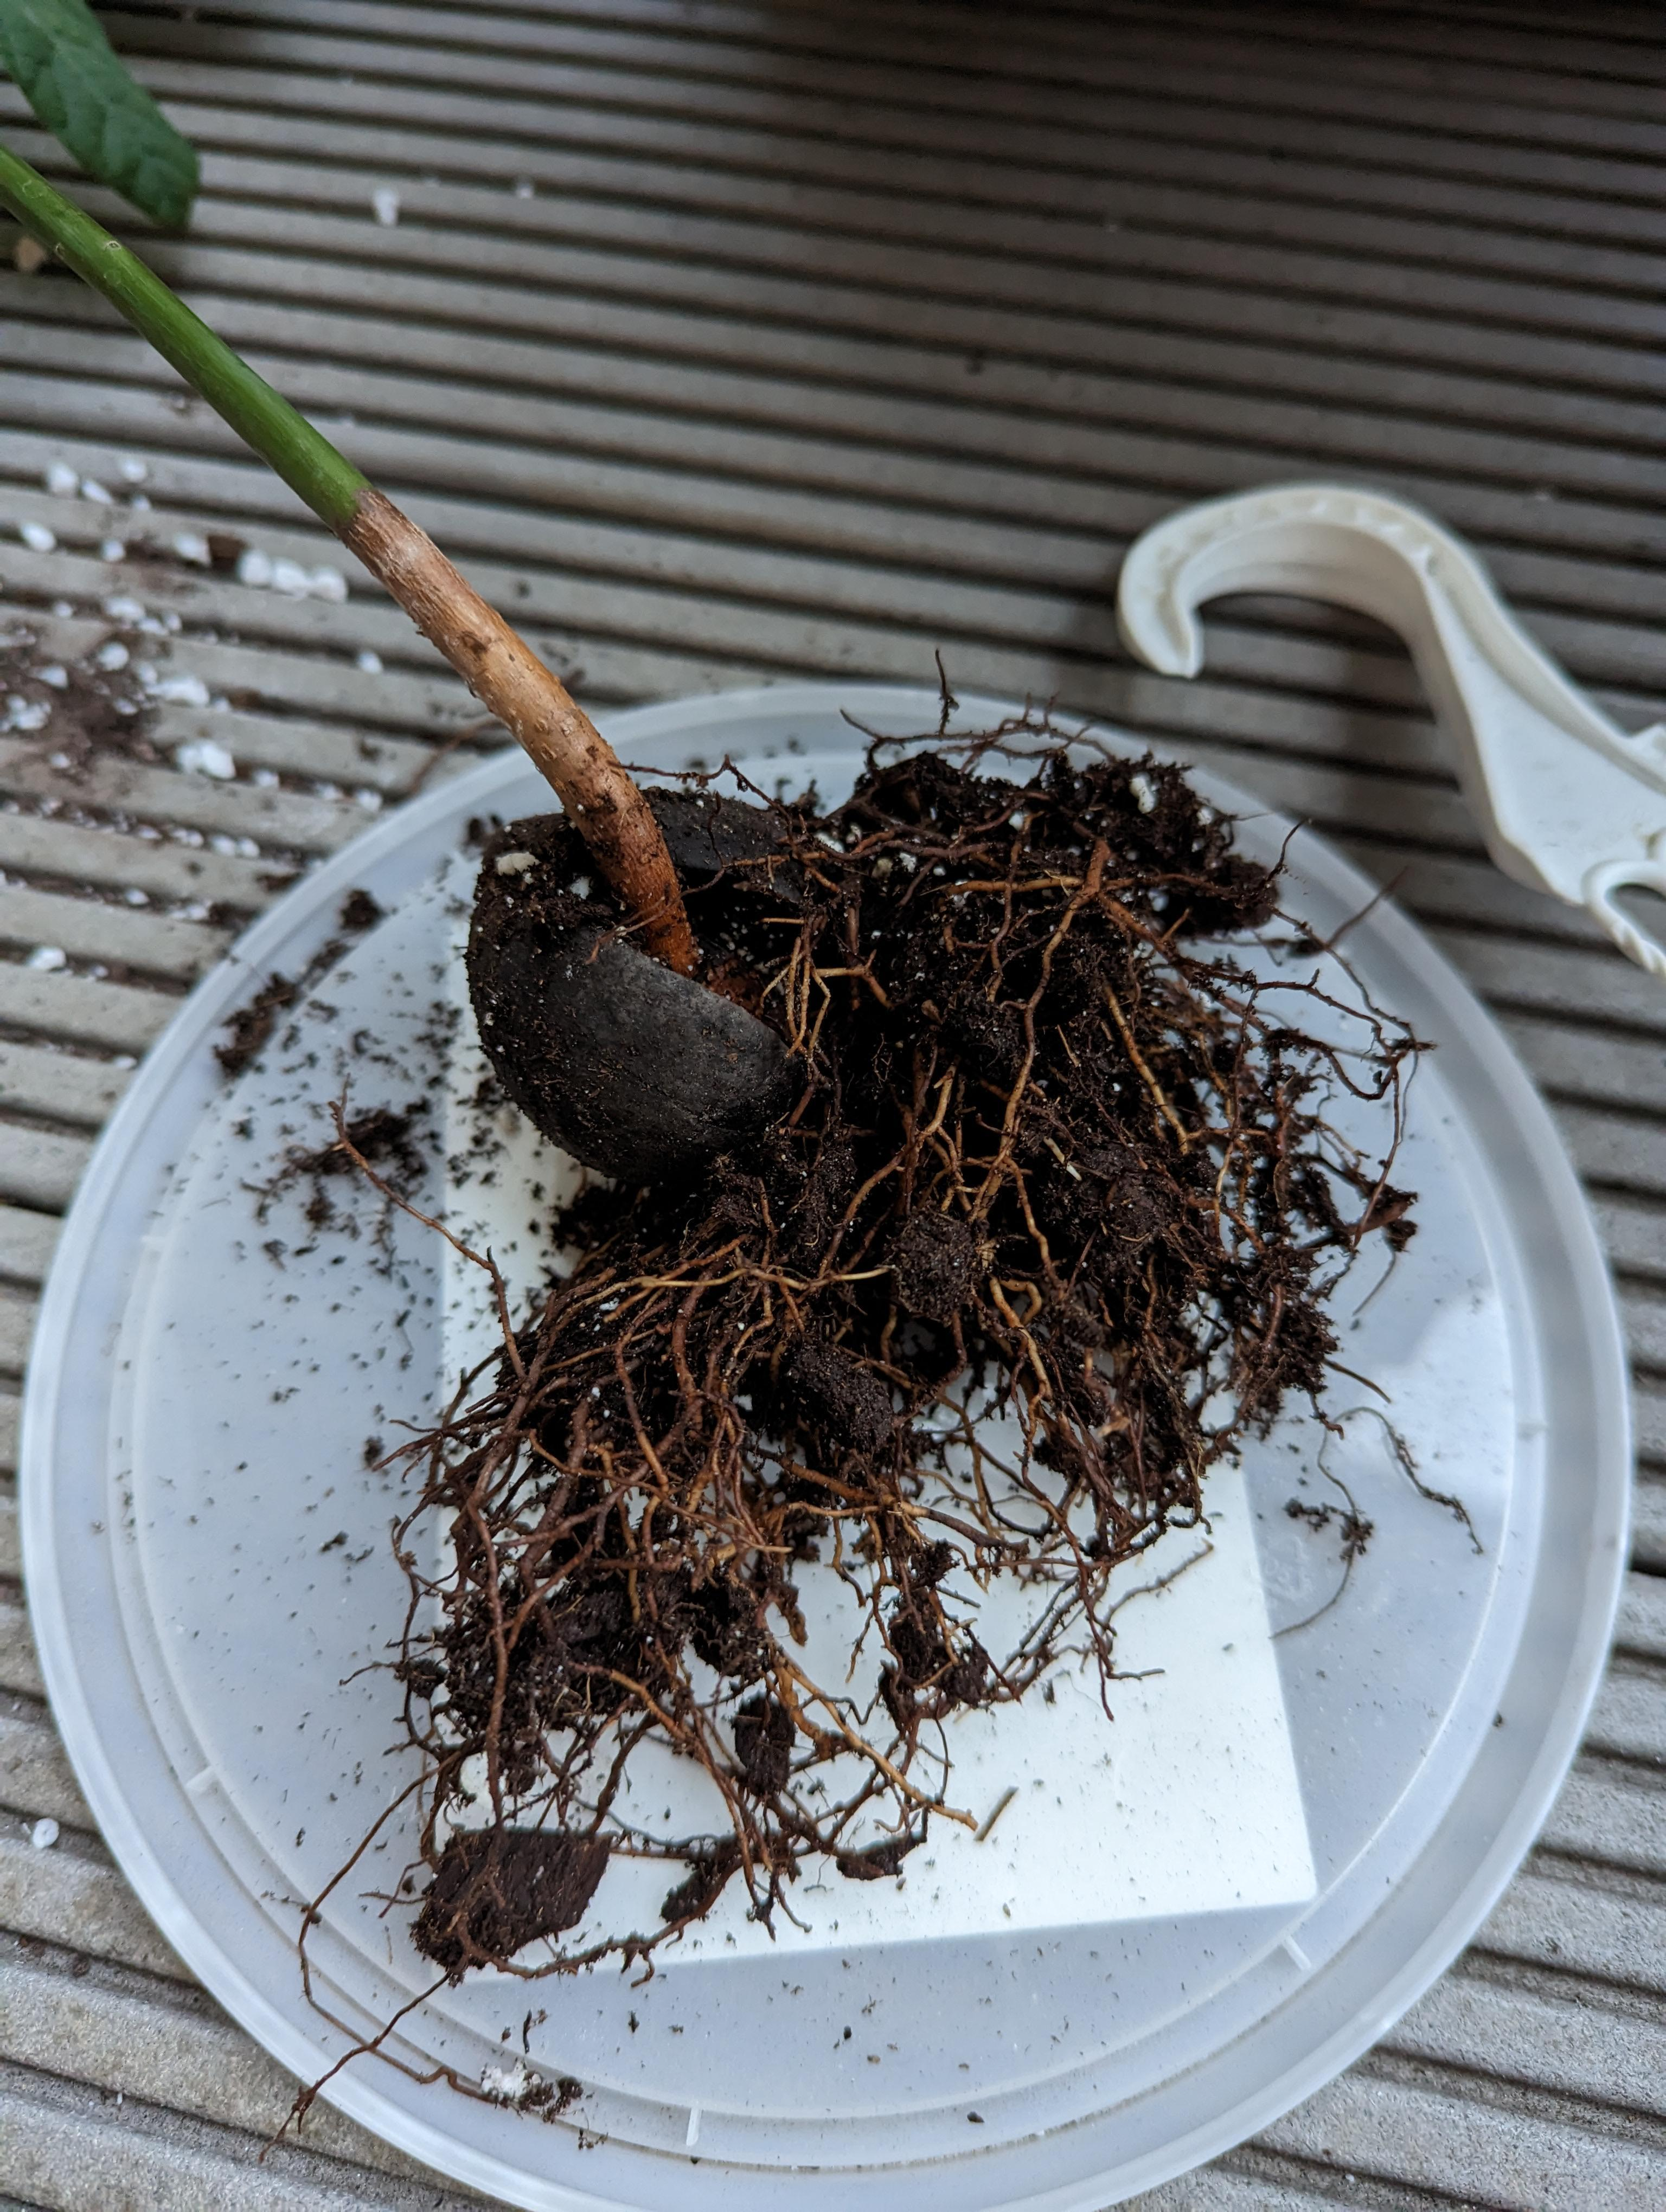root_rot: (119, 142, 1573, 2212)
